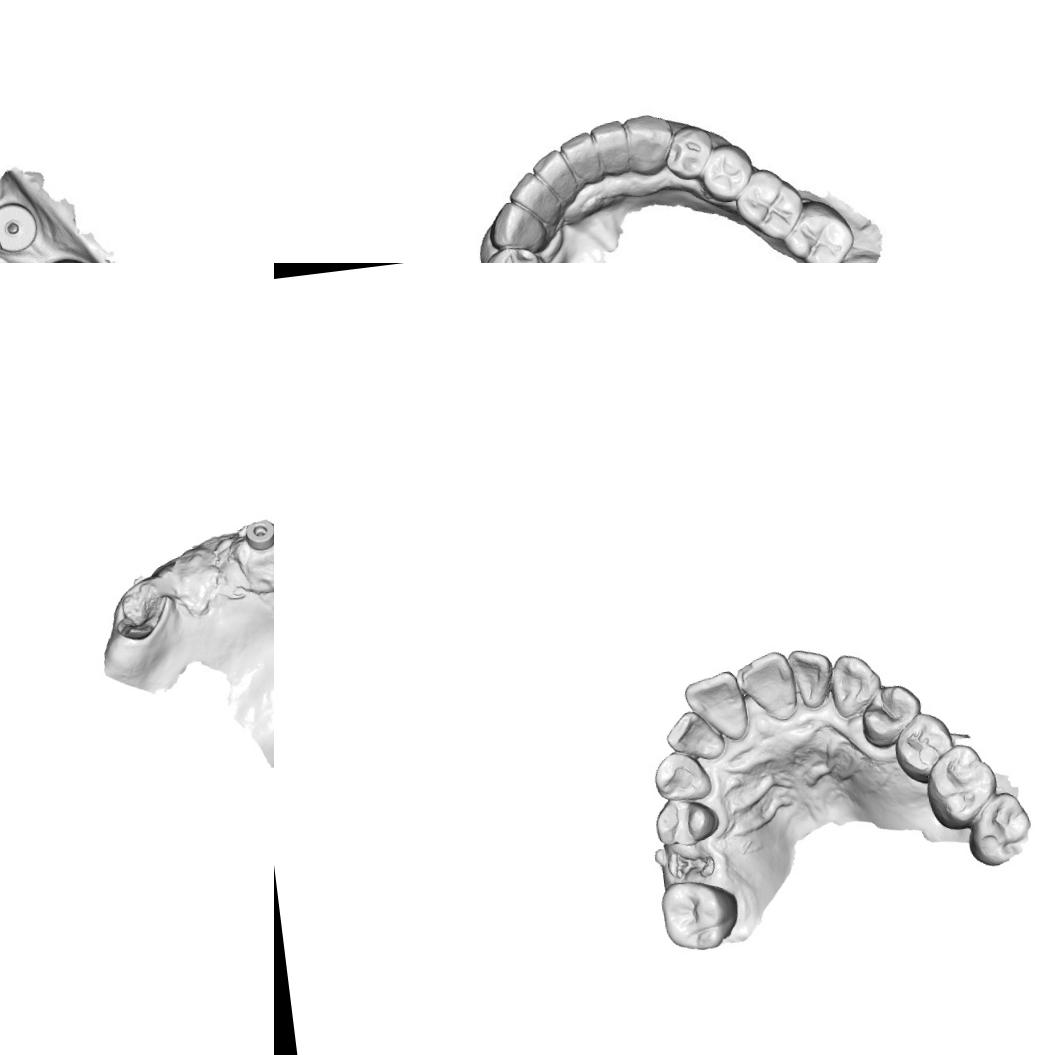canine: (825, 649, 886, 720), (622, 109, 678, 178), (487, 196, 550, 257), (652, 750, 716, 804)
implant: (0, 196, 37, 254), (241, 515, 274, 553)
incisor: (680, 667, 750, 746), (732, 647, 801, 726), (662, 705, 730, 765), (784, 642, 836, 712), (506, 167, 562, 229), (530, 145, 580, 207), (557, 130, 604, 192), (588, 118, 634, 180)
molar: (920, 738, 1005, 834), (656, 873, 746, 956), (960, 786, 1039, 871), (730, 162, 806, 249), (777, 197, 858, 263)
premolar: (888, 707, 960, 785), (856, 680, 928, 751), (650, 792, 722, 851), (696, 140, 758, 205), (660, 120, 718, 184), (481, 243, 542, 263)
